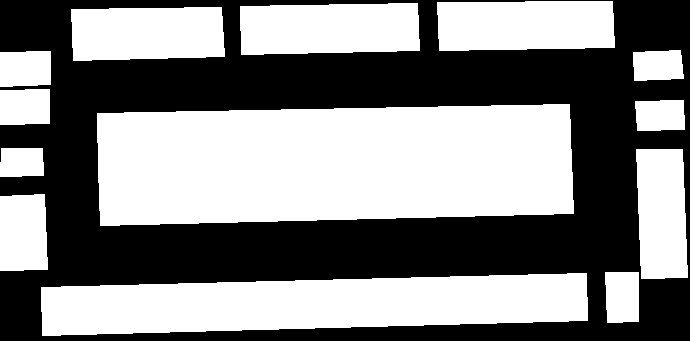parkingspot: (41, 273, 587, 335), (97, 104, 571, 172), (98, 158, 573, 225), (240, 3, 419, 54), (437, 1, 614, 50), (71, 7, 224, 60), (636, 149, 687, 278), (0, 194, 47, 270), (0, 51, 50, 86), (0, 89, 49, 124), (605, 272, 638, 322), (633, 50, 683, 80), (635, 100, 684, 130), (0, 148, 43, 176)
